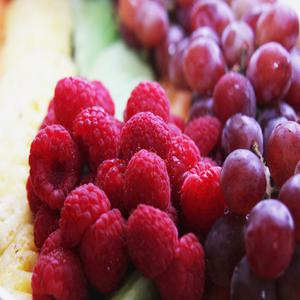raspb: (22, 78, 205, 300)
